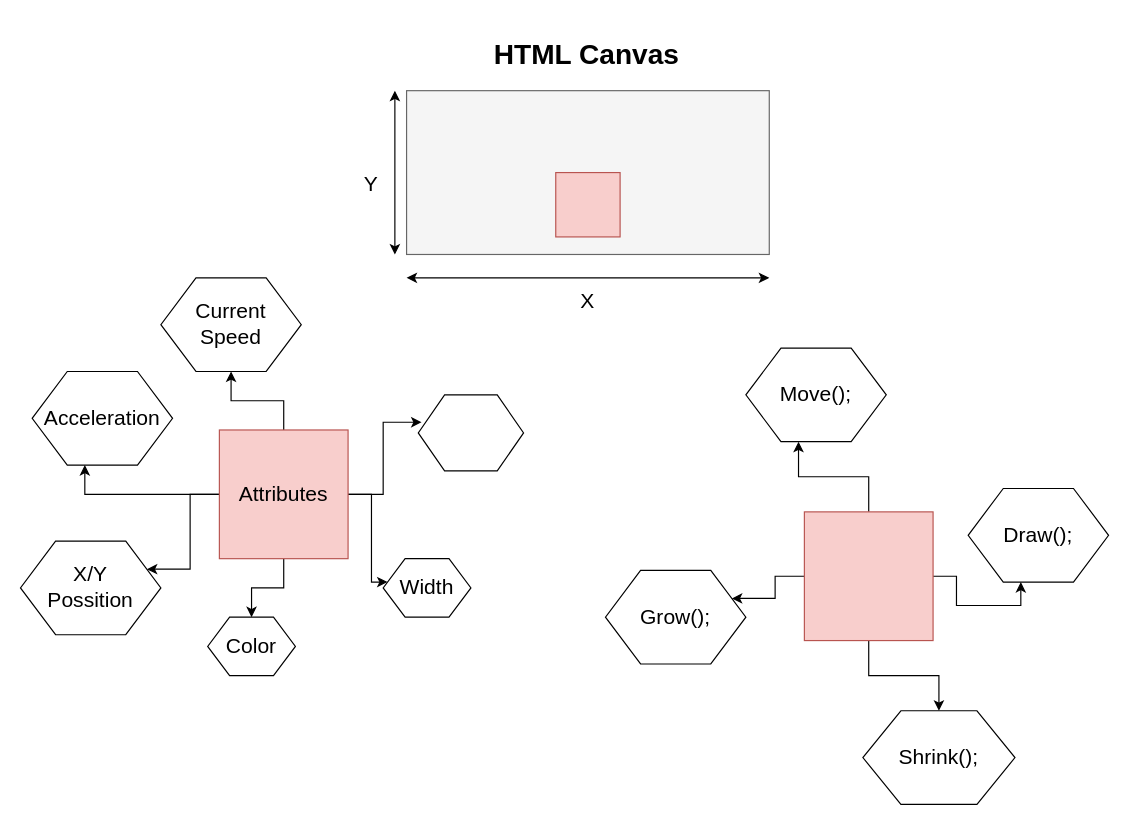
Image size: 1129x825. Some labels were removed from this diagram. Here are the shapes that lost their labels. From the top down, the centre of each, then its label:
At [587,204]: "OBJECT".
At [470,432]: "HEIGHT".
At [868,576]: "Functions".
